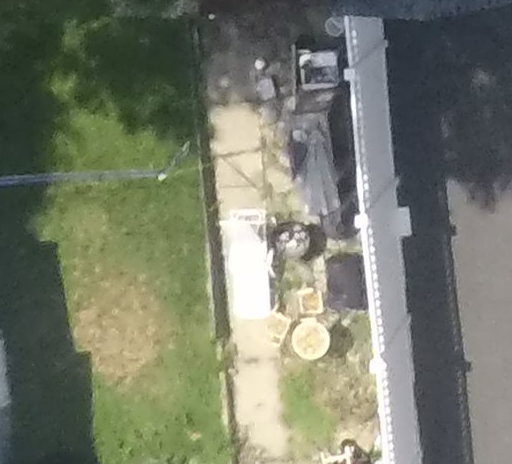chair: (253, 300, 294, 355), (293, 291, 329, 316)
container: (320, 9, 344, 38)
fence: (337, 12, 459, 464)
table: (289, 312, 336, 364)
